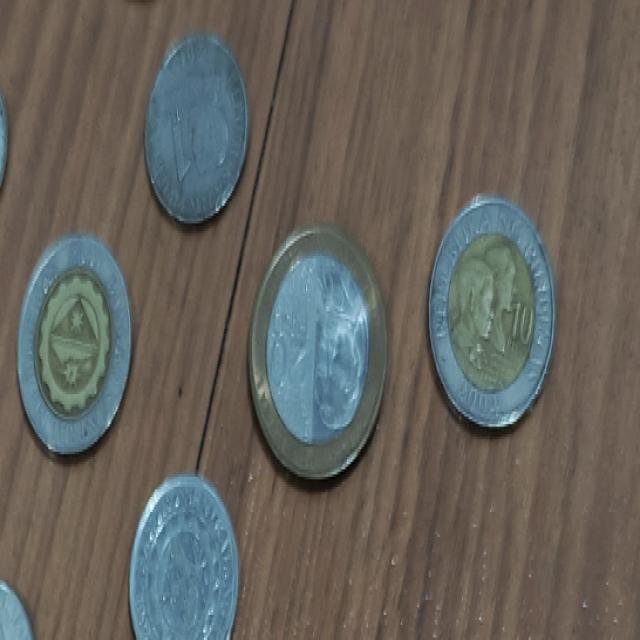10_peso: (429, 196, 554, 422), (18, 236, 130, 452)
1_peso: (145, 33, 247, 221), (130, 474, 238, 637)
20_peso: (250, 223, 386, 477)
